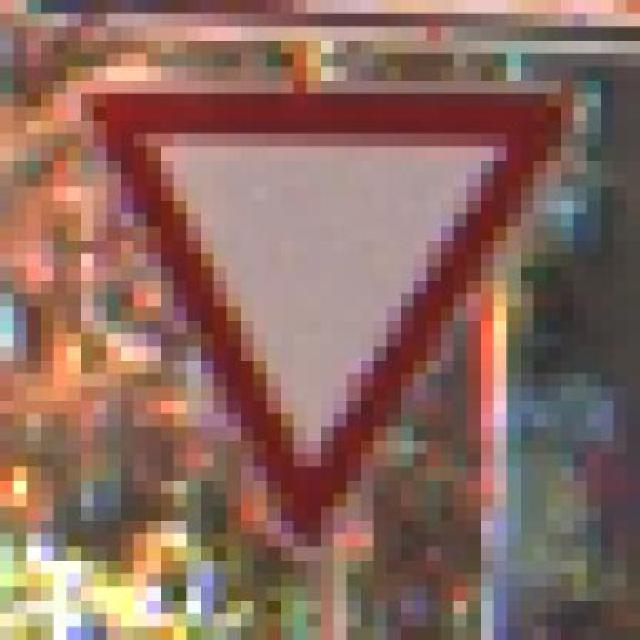Give Way: (53, 67, 587, 547)
